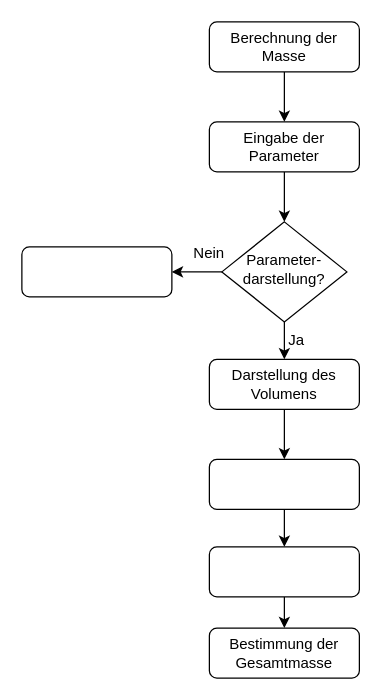
Image size: 381x700. Some labels were removed from this diagram. Each missing label, with the centre of its shape:
Berechnung der Einzelmassen: the point at 283,571
Berechnung der Parameter: the point at 283,483
Regression aus Datenbank: the point at 96,271
